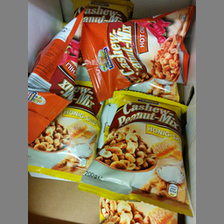nuts: (76, 90, 195, 216), (80, 5, 195, 104), (28, 13, 86, 145)
